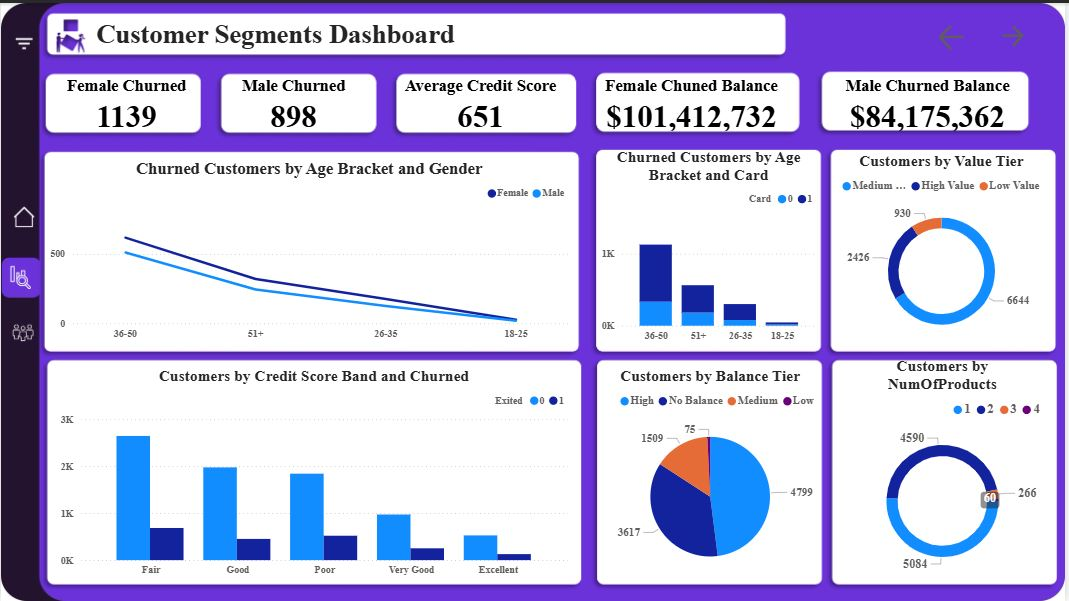

This screenshot's page, from the dashboard's own definition file:
{"tool":"powerbi","page":{"name":"Customer Segment","canvas":[1280,720],"ordinal":3},"visuals":[{"type":"textbox","box":[109.1,14.7,746.2,51.6],"z":0},{"type":"card","title":"Female Churned","fields":{"Values":["KPIs.Female_Churned"]},"box":[66.3,87.4,169.9,71.2],"z":1000},{"type":"card","title":"Male Churned","fields":{"Values":["KPIs.Male_Churned"]},"box":[267,87.4,169.9,71.2],"z":2000},{"type":"card","title":"Average Credit Score","fields":{"Values":["KPIs.AVG Credit Score"]},"box":[467.7,87.4,220.1,71.2],"z":3000},{"type":"card","title":"Female Chuned Balance","fields":{"Values":["KPIs.TotalBal-FEMale Churned"]},"box":[721.7,87.4,220.1,71.2],"z":4000},{"type":"card","title":"Male Churned Balance","fields":{"Values":["KPIs.TotalBal-Male Churned"]},"box":[1004.9,87.4,220.1,71.2],"z":5000},{"type":"columnChart","title":"Churned Customers by Age Bracket and Card","fields":{"Series":["Churn_Modelling.HasCrCard"],"Category":["Churn_Modelling.Age Bracket"],"Y":["KPIs.Churned Customers"]},"box":[717,174.8,269,242],"z":6000},{"type":"lineChart","fields":{"Category":["Churn_Modelling.Age Bracket"],"Y":["KPIs.Churned Customers"],"Series":["Churn_Modelling.Gender"]},"box":[54.3,188.1,633.7,226],"z":7000},{"type":"clusteredColumnChart","title":"Customers by Credit Score Band and Churned","fields":{"Category":["Churn_Modelling.Credit Score Band"],"Y":["KPIs.Customer Count"],"Series":["Churn_Modelling.Exited"]},"box":[66.3,438.5,621.4,260.5],"z":8000},{"type":"donutChart","title":"Customers by  Value Tier","fields":{"Y":["KPIs.Customer Count"],"Category":["Churn_Modelling.Customer Value Tier"]},"box":[1003.6,179.3,256.3,237.3],"z":9000},{"type":"pieChart","title":"Customers by Balance Tier","fields":{"Y":["KPIs.Customer Count"],"Category":["Churn_Modelling.Balance Tier"]},"box":[718.3,438,270.1,262.6],"z":10000},{"type":"donutChart","title":"Customers  by NumOfProducts","fields":{"Category":["Churn_Modelling.NumOfProducts"],"Y":["KPIs.Customer Count"]},"box":[1004.8,426.7,256.3,272.7],"z":11000},{"type":"actionButton","box":[0,238.2,54.9,49.5],"z":11001},{"type":"actionButton","box":[1124.2,21.4,58.9,40.1],"z":11002},{"type":"actionButton","box":[1193.8,16.1,62.9,49.5],"z":11003}]}

Visuals, with their boxes on the page's 1280x720 design canvas (x1, y1, x2, y2). These are canvas units, not pixel positions in the 1069x601 screenshot, which may show the page scaled, cropped or inside an application window:
textbox: (x1=109, y1=15, x2=855, y2=66)
"Female Churned" card: (x1=66, y1=87, x2=236, y2=159)
"Male Churned" card: (x1=267, y1=87, x2=437, y2=159)
"Average Credit Score" card: (x1=468, y1=87, x2=688, y2=159)
"Female Chuned Balance" card: (x1=722, y1=87, x2=942, y2=159)
"Male Churned Balance" card: (x1=1005, y1=87, x2=1225, y2=159)
"Churned Customers by Age Bracket and Card" columnChart: (x1=717, y1=175, x2=986, y2=417)
lineChart - Churn_Modelling.Age Bracket x KPIs.Churned Customers: (x1=54, y1=188, x2=688, y2=414)
"Customers by Credit Score Band and Churned" clusteredColumnChart: (x1=66, y1=438, x2=688, y2=699)
"Customers by  Value Tier" donutChart: (x1=1004, y1=179, x2=1260, y2=417)
"Customers by Balance Tier" pieChart: (x1=718, y1=438, x2=988, y2=701)
"Customers  by NumOfProducts" donutChart: (x1=1005, y1=427, x2=1261, y2=699)
actionButton: (x1=0, y1=238, x2=55, y2=288)
actionButton: (x1=1124, y1=21, x2=1183, y2=62)
actionButton: (x1=1194, y1=16, x2=1257, y2=66)
